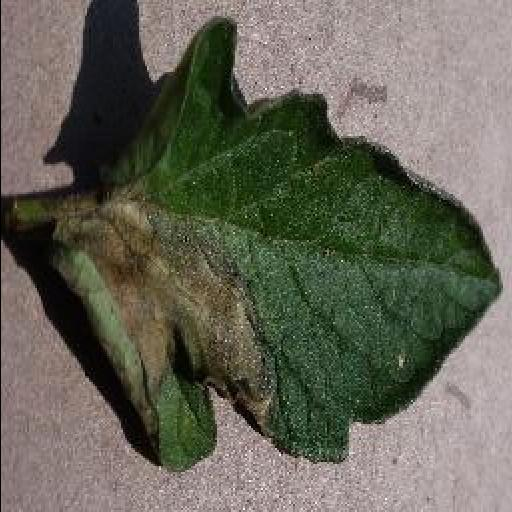disease_tomato: (0, 14, 502, 472)
